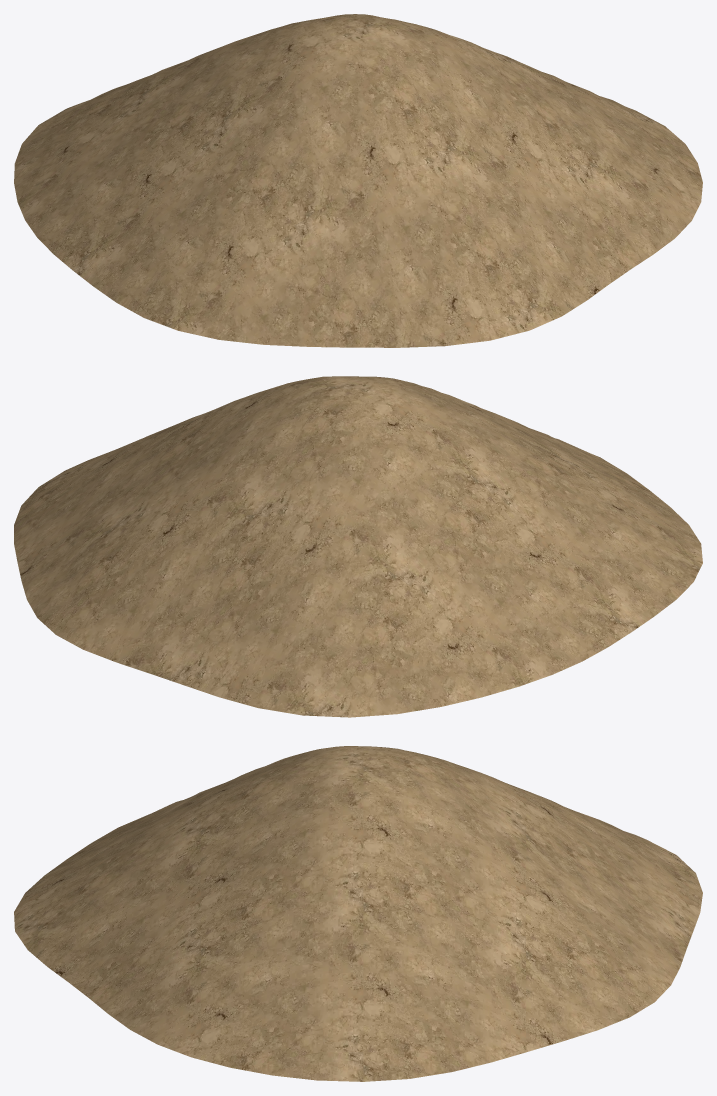
File: ALV-AGR-003_lod1.glb
3 views of the same model, one above another, from view 1: azimuth 30°, elevation 25°; view 2: azimuth 150°, elevation 25°; view 3: azimuth 270°, elevation 25° (orthographic).
Parts seen in each view (by area): view 1: ALV-AGR-003_monte; view 2: ALV-AGR-003_monte; view 3: ALV-AGR-003_monte.
Boxes of the visible parts, x1,y1,x2,y2 form: ALV-AGR-003_monte: [14, 14, 702, 347]; ALV-AGR-003_monte: [14, 376, 702, 717]; ALV-AGR-003_monte: [14, 746, 702, 1081].
Size of the model in its own units: 1.04 by 0.2913 by 1.06.
Materials: 1 (1 with a texture image).
